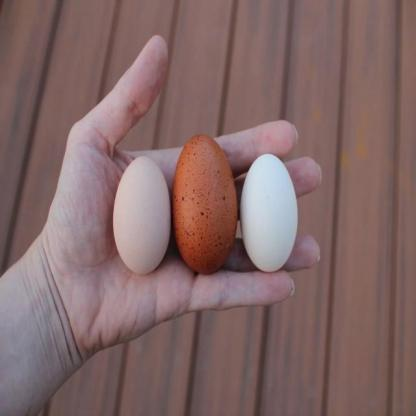egg: (171, 121, 242, 291), (237, 129, 307, 278), (103, 138, 175, 280)
